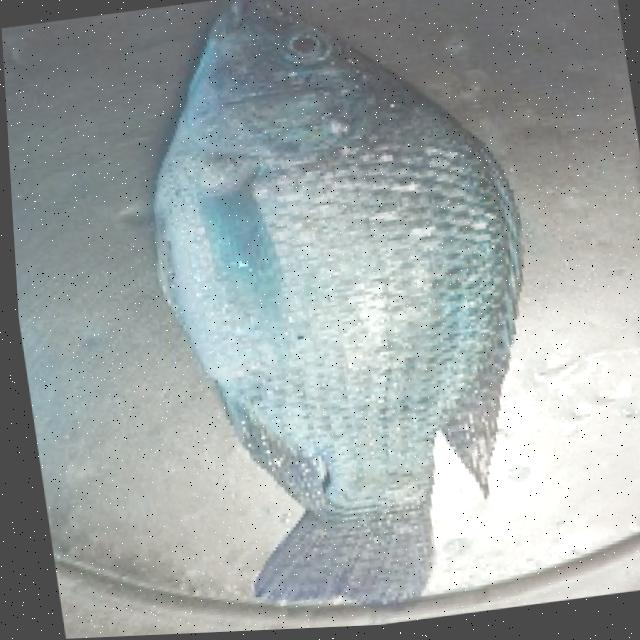Fresh: (94, 0, 520, 525)
